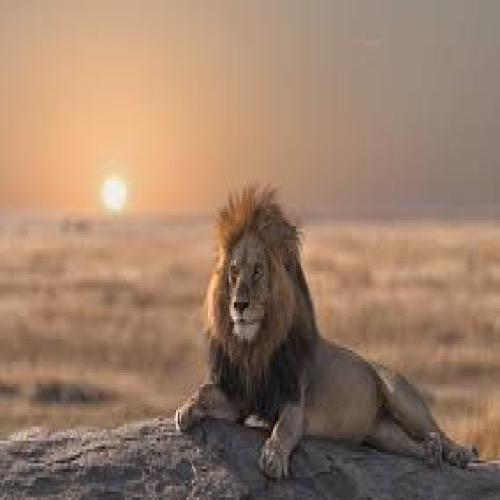lion-endangered: (173, 184, 478, 480)
